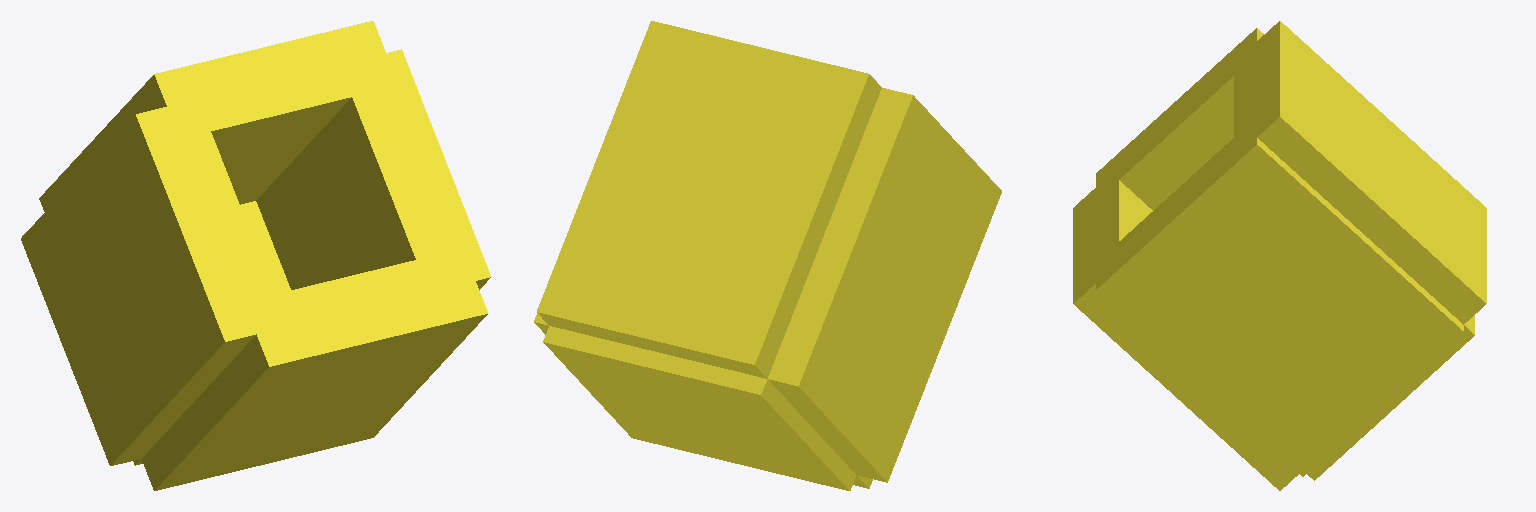
The robot description file, URDF, robot "panda":
<?xml version="1.0" encoding="utf-8" ?>
<robot name="panda">
    <!-- Panda link 0 -->
    <link name="panda_link0">
        <visual>
            <geometry>
                <mesh filename="package://franka_description/meshes/visual/link0.dae" />
            </geometry>
        </visual>
        <collision>
            <geometry>
                <mesh filename="package://franka_description/meshes/collision/link0.stl" />
            </geometry>
        </collision>
        <inertial>
            <origin rpy="0 0 0" xyz="0 0 0" />
            <mass value="3.06" />
            <inertia ixx="0.3" ixy="0.0" ixz="0.0" iyy="0.3" iyz="0.0" izz="0.3" />
        </inertial>
    </link>
    <!-- Joint 1 from link 0 to 1 -->
    <joint name="panda_joint1" type="revolute">
        <origin rpy="0 0 0" xyz="0 0 0.333" />
        <parent link="panda_link0" />
        <child link="panda_link1" />
        <axis xyz="0 0 1" />
        <limit effort="87" lower="-2.8973" upper="2.8973" velocity="2.1750" />
        <dynamics damping="1.0" />
    </joint>
    <!-- Panda link 1 -->
    <link name="panda_link1">
        <visual>
            <geometry>
                <mesh filename="package://franka_description/meshes/visual/link1.dae" />
            </geometry>
        </visual>
        <collision>
            <geometry>
                <mesh filename="package://franka_description/meshes/collision/link1.stl" />
            </geometry>
        </collision>
        <inertial>
            <origin rpy="0 0 0" xyz="0 0 0" />
            <mass value="2.34" />
            <inertia ixx="0.3" ixy="0.0" ixz="0.0" iyy="0.3" iyz="0.0" izz="0.3" />
        </inertial>
    </link>
    <!-- Joint 2 from link 1 to 2 -->
    <joint name="panda_joint2" type="revolute">
        <origin rpy="-1.57079632679 0 0" xyz="0 0 0" />
        <parent link="panda_link1" />
        <child link="panda_link2" />
        <axis xyz="0 0 1" />
        <limit effort="87" lower="-1.7628" upper="1.7628" velocity="2.1750" />
        <dynamics damping="1.0" />
    </joint>
    <!-- Panda link 2 -->
    <link name="panda_link2">
        <visual>
            <geometry>
                <mesh filename="package://franka_description/meshes/visual/link2.dae" />
            </geometry>
        </visual>
        <collision>
            <geometry>
                <mesh filename="package://franka_description/meshes/collision/link2.stl" />
            </geometry>
        </collision>
        <inertial>
            <origin rpy="0 0 0" xyz="0 0 0" />
            <mass value="2.36" />
            <inertia ixx="0.3" ixy="0.0" ixz="0.0" iyy="0.3" iyz="0.0" izz="0.3" />
        </inertial>
    </link>
    <!-- Joint 3 from link 2 to 3 -->
    <joint name="panda_joint3" type="revolute">
        <origin rpy="1.57079632679 0 0" xyz="0 -0.316 0" />
        <parent link="panda_link2" />
        <child link="panda_link3" />
        <axis xyz="0 0 1" />
        <limit effort="87" lower="-2.8973" upper="2.8973" velocity="2.1750" />
        <dynamics damping="1.0" />
    </joint>
    <!-- Panda link 3 -->
    <link name="panda_link3">
        <visual>
            <geometry>
                <mesh filename="package://franka_description/meshes/visual/link3.dae" />
            </geometry>
        </visual>
        <collision>
            <geometry>
                <mesh filename="package://franka_description/meshes/collision/link3.stl" />
            </geometry>
        </collision>
        <inertial>
            <origin rpy="0 0 0" xyz="0 0 0" />
            <mass value="2.38" />
            <inertia ixx="0.3" ixy="0.0" ixz="0.0" iyy="0.3" iyz="0.0" izz="0.3" />
        </inertial>
    </link>
    <!-- Joint 4 from link 3 to 4 -->
    <joint name="panda_joint4" type="revolute">
        <origin rpy="1.57079632679 0 0" xyz="0.0825 0 0" />
        <parent link="panda_link3" />
        <child link="panda_link4" />
        <axis xyz="0 0 1" />
        <limit effort="87" lower="-3.0718" upper="-0.0698" velocity="2.1750" />
        <dynamics damping="1.0" />
    </joint>
    <!-- Panda link 4 -->
    <link name="panda_link4">
        <visual>
            <geometry>
                <mesh filename="package://franka_description/meshes/visual/link4.dae" />
            </geometry>
        </visual>
        <collision>
            <geometry>
                <mesh filename="package://franka_description/meshes/collision/link4.stl" />
            </geometry>
        </collision>
        <inertial>
            <origin rpy="0 0 0" xyz="0 0 0" />
            <mass value="2.43" />
            <inertia ixx="0.3" ixy="0.0" ixz="0.0" iyy="0.3" iyz="0.0" izz="0.3" />
        </inertial>
    </link>
    <!-- Joint 5 from link 4 to 5 -->
    <joint name="panda_joint5" type="revolute">
        <origin rpy="-1.57079632679 0 0" xyz="-0.0825 0.384 0" />
        <parent link="panda_link4" />
        <child link="panda_link5" />
        <axis xyz="0 0 1" />
        <limit effort="12" lower="-2.8973" upper="2.8973" velocity="2.6100" />
        <dynamics damping="1.0" />
    </joint>
    <!-- Panda link 5 -->
    <link name="panda_link5">
        <visual>
            <geometry>
                <mesh filename="package://franka_description/meshes/visual/link5.dae" />
            </geometry>
        </visual>
        <collision>
            <geometry>
                <mesh filename="package://franka_description/meshes/collision/link5.stl" />
            </geometry>
        </collision>
        <inertial>
            <origin rpy="0 0 0" xyz="0 0 0" />
            <mass value="3.5" />
            <inertia ixx="0.3" ixy="0.0" ixz="0.0" iyy="0.3" iyz="0.0" izz="0.3" />
        </inertial>
    </link>
    <!-- Joint 6 from link 5 to 6 -->
    <joint name="panda_joint6" type="revolute">
        <origin rpy="1.57079632679 0 0" xyz="0 0 0" />
        <parent link="panda_link5" />
        <child link="panda_link6" />
        <axis xyz="0 0 1" />
        <limit effort="12" lower="-0.0175" upper="3.7525" velocity="2.6100" />
        <dynamics damping="1.0" />
    </joint>
    <!-- Panda link 6 -->
    <link name="panda_link6">
        <visual>
            <geometry>
                <mesh filename="package://franka_description/meshes/visual/link6.dae" />
            </geometry>
        </visual>
        <collision>
            <geometry>
                <mesh filename="package://franka_description/meshes/collision/link6.stl" />
            </geometry>
        </collision>
        <inertial>
            <origin rpy="0 0 0" xyz="0 0 0" />
            <mass value="1.47" />
            <inertia ixx="0.3" ixy="0.0" ixz="0.0" iyy="0.3" iyz="0.0" izz="0.3" />
        </inertial>
    </link>
    <!-- Joint 7 from link 6 to 7 -->
    <joint name="panda_joint7" type="revolute">
        <origin rpy="1.57079632679 0 0" xyz="0.088 0 0" />
        <parent link="panda_link6" />
        <child link="panda_link7" />
        <axis xyz="0 0 1" />
        <limit effort="12" lower="-2.8973" upper="2.8973" velocity="2.6100" />
        <dynamics damping="1.0" />
    </joint>
    <!-- Panda link 7 -->
    <link name="panda_link7">
        <visual>
            <geometry>
                <mesh filename="package://franka_description/meshes/visual/link7.dae" />
            </geometry>
        </visual>
        <collision>
            <geometry>
                <mesh filename="package://franka_description/meshes/collision/link7.stl" />
            </geometry>
        </collision>
        <inertial>
            <origin rpy="0 0 0" xyz="0 0 0" />
            <mass value="0.45" />
            <inertia ixx="0.3" ixy="0.0" ixz="0.0" iyy="0.3" iyz="0.0" izz="0.3" />
        </inertial>
    </link>
    <!-- Fixed Joint 8 from link 7 to 8 -->
    <joint name="panda_joint8" type="fixed">
        <origin rpy="0 0 0" xyz="0 0 0.107" />
        <parent link="panda_link7" />
        <child link="panda_link8" />
        <axis xyz="0 0 0" />
    </joint>
    <!-- Panda link 8 (not visualized) -->
    <link name="panda_link8">
        <inertial>
            <origin rpy="0 0 0" xyz="0 0 0" />
            <mass value="1e-10" />
            <inertia ixx="0.3" ixy="0.0" ixz="0.0" iyy="0.3" iyz="0.0" izz="0.3" />
        </inertial>
    </link>
    <!-- Fixed Joint from link 8 to EE -->
    <joint name="panda_ee_joint" type="fixed">
        <parent link="panda_link8" />
        <child link="panda_ee" />
        <origin rpy="0 0 -0.785398163397" xyz="0 0 0.103" />
    </joint>
    <!-- Panda EE (official) -->
    <link name="panda_ee">
        <inertial>
            <origin rpy="0 0 0" xyz="0 0 0" />
            <mass value="1e-10" />
            <inertia ixx="1e-6" ixy="0.0" ixz="0.0" iyy="1e-6" iyz="0.0" izz="1e-6" />
        </inertial>
    </link>
    <!-- Fixed Joint Hand from link 8 to hand -->
    <joint name="panda_hand_joint" type="fixed">
        <parent link="panda_link8" />
        <child link="panda_hand" />
        <origin rpy="0 0 -0.785398163397" xyz="0 0 0" />
    </joint>
    <!-- Panda link hand -->
    <link name="panda_hand">
        <visual>
            <geometry>
                <mesh filename="package://franka_description/meshes/visual/hand.dae" />
            </geometry>
        </visual>
        <collision>
            <geometry>
                <mesh filename="package://franka_description/meshes/collision/hand.stl" />
            </geometry>
        </collision>
        <inertial>
            <origin rpy="0 0 0" xyz="0 0 0" />
            <mass value="0.68" />
            <inertia ixx="0.1" ixy="0.0" ixz="0.0" iyy="0.1" iyz="0.0" izz="0.1" />
        </inertial>
    </link>
    <!-- Joint from hand to left finger -->
    <!-- <joint name="panda_finger_joint1" type="prismatic">
        <parent link="panda_hand" />
        <child link="panda_leftfinger" />
        <origin rpy="0 0 0" xyz="0 0 0.0584" />
        <axis xyz="0 1 0" />
        <limit effort="20" lower="0.0" upper="0.04" velocity="0.2" />
    </joint> -->
    <!-- Joint from hand to right finger -->
    <!-- <joint name="panda_finger_joint2" type="prismatic">
        <parent link="panda_hand" />
        <child link="panda_rightfinger" />
        <origin rpy="0 0 0" xyz="0 0 0.0584" />
        <axis xyz="0 -1 0" />
        <limit effort="20" lower="0.0" upper="0.04" velocity="0.2" />
        <mimic joint="panda_finger_joint1" />
    </joint> -->
    <!-- Panda link left finger -->
    <!--<link name="panda_leftfinger">
        <visual>
            <geometry>
                <mesh filename="package://franka_description/meshes/visual/finger.dae" />
            </geometry>
        </visual>
        <collision>
            <geometry>
                <mesh filename="package://franka_description/meshes/collision/finger.stl" />
            </geometry>
        </collision>
        <inertial>
            <origin rpy="0 0 0" xyz="0 0 0" />
            <mass value="0.01" />
            <inertia ixx="0.1" ixy="0.0" ixz="0.0" iyy="0.1" iyz="0.0" izz="0.1" />
        </inertial>
    </link> -->
    <link name = "cereal_box">
        <inertial>
            <origin xyz="0 0 0" rpy="1.57 0 -1.57"/>
            <mass value="0.01"/>
            <inertia ixx="0.1" ixy="0" ixz="0" iyy="0.1" iyz="0" izz="0.1" />
        </inertial>
        <!--
        <visual>
            <origin xyz="0 0 0" rpy="1.57 0 -1.57" />
            <geometry>
                <mesh filename="package://franka_description/meshes/visual/cereal.dae" scale="0.8 0.8 0.8" />
            </geometry>
        </visual> -->
        <visual>
            <!-- bottom of cup -->
            <origin xyz="0.05 -0.02 -0.05" rpy="0 0 0"/>
            <geometry>
                <box size="0.02 0.07 0.07"/>
            </geometry>
        </visual>
        <visual>
            <!-- left side of cup -->
            <origin xyz="0.01 -0.055 -0.05" rpy="0 0 0"/>
            <geometry>
                <box size="0.09 0.02 0.07"/>
            </geometry>
        </visual>
        <visual>
            <!-- right side of cup -->
            <origin xyz="0.01 0.015 -0.05" rpy="0 0 0"/>
            <geometry>
                <box size="0.09 0.02 0.07"/>
            </geometry>
        </visual>

        <visual>
            <!-- back side of cup -->
            <origin xyz="0.01 -0.02 -0.08" rpy="0 0 0"/>
            <geometry>
                <box size="0.09 0.07 0.02"/>
            </geometry>
        </visual>
        <visual>
            <!-- front side of cup -->
            <origin xyz="0.01 -0.02 -0.015" rpy="0 0 0"/>
            <geometry>
                <box size="0.09 0.07 0.02"/>
            </geometry>
        </visual>

        <!-- <collision>
            <origin xyz="-0.05 0 0" rpy="0 0 0"/>
            <geometry>
                <box size="0.04 0.3 0.3"/>
            </geometry>
        </collision> -->

        <collision>
            <!-- bottom of cup -->
            <origin xyz="0.05 -0.02 -0.05" rpy="0 0 0"/>

            <geometry>
                <box size="0.02 0.07 0.07"/>
            </geometry>
        </collision>
        <collision>
            <!-- left side of cup -->
            <origin xyz="0.01 -0.055 -0.05" rpy="0 0 0"/>

            <geometry>
                <box size="0.09 0.02 0.07"/>
            </geometry>
        </collision>
        <collision>
            <!-- right side of cup -->
            <origin xyz="0.01 0.015 -0.05" rpy="0 0 0"/>

            <geometry>
                <box size="0.09 0.02 0.07"/>
            </geometry>
        </collision>

        <collision>
            <!-- back side of cup -->
            <origin xyz="0.01 -0.02 -0.08" rpy="0 0 0"/>

            <geometry>
                <box size="0.09 0.07 0.02"/>
            </geometry>
        </collision>
        <collision>
            <!-- front side of cup -->
            <origin xyz="0.01 -0.02 -0.015" rpy="0 0 0"/>

            <geometry>
                <box size="0.09 0.07 0.02"/>
            </geometry>
        </collision>
    </link>
    <!-- Joint from hand to left finger -->
    <joint name="cereal_joint" type="fixed">
        <parent link="panda_ee" />
        <child link="cereal_box" />
        <origin rpy="0 0 0" xyz="0 0 0.0584" />
        <axis xyz="0 1 0" />
        <!-- <limit effort="20" lower="0.0" upper="0.04" velocity="0.2" /> -->
    </joint>
    <!-- Panda link right finger -->
    <!-- <link name="panda_rightfinger">
        <visual>
            <origin rpy="0 0 3.14159265359" xyz="0 0 0" />
            <geometry>
                <mesh filename="package://franka_description/meshes/visual/finger.dae" />
            </geometry>
        </visual>
        <collision>
            <origin rpy="0 0 3.14159265359" xyz="0 0 0" />
            <geometry>
                <mesh filename="package://franka_description/meshes/collision/finger.stl" />
            </geometry>
        </collision>
        <inertial>
            <origin rpy="0 0 0" xyz="0 0 0" />
            <mass value="0.01" />
            <inertia ixx="0.1" ixy="0.0" ixz="0.0" iyy="0.1" iyz="0.0" izz="0.1" />
        </inertial>
    </link> -->
</robot>

--- What the picture shows (computed from the rendered views, not written in the file) ---
The picture shows the robot from 3 angles, left to right: view 1: azimuth 30°, elevation 25°; view 2: azimuth 150°, elevation 25°; view 3: azimuth 270°, elevation 25°; orthographic projection.
Robot: panda — 12 links, 11 joints (7 revolute, 4 fixed); root link panda_link0; default pose: joints at zero except 1 at the middle of their limits (panda_joint4 = -1.57).
Visible links, largest first — view 1: cereal_box; view 2: cereal_box; view 3: cereal_box.
Link boxes in pixels (box(x1,y1,x2,y2)): cereal_box: box(21, 21, 490, 490); cereal_box: box(534, 21, 1001, 490); cereal_box: box(1073, 21, 1486, 490).
Size in the robot's own frame: 0.085 by 0.1273 by 0.1273 metres.
0 mesh visuals loaded from 9 distinct referenced files (none loaded); not drawn: 9 (reference not matched to a file when rendering).